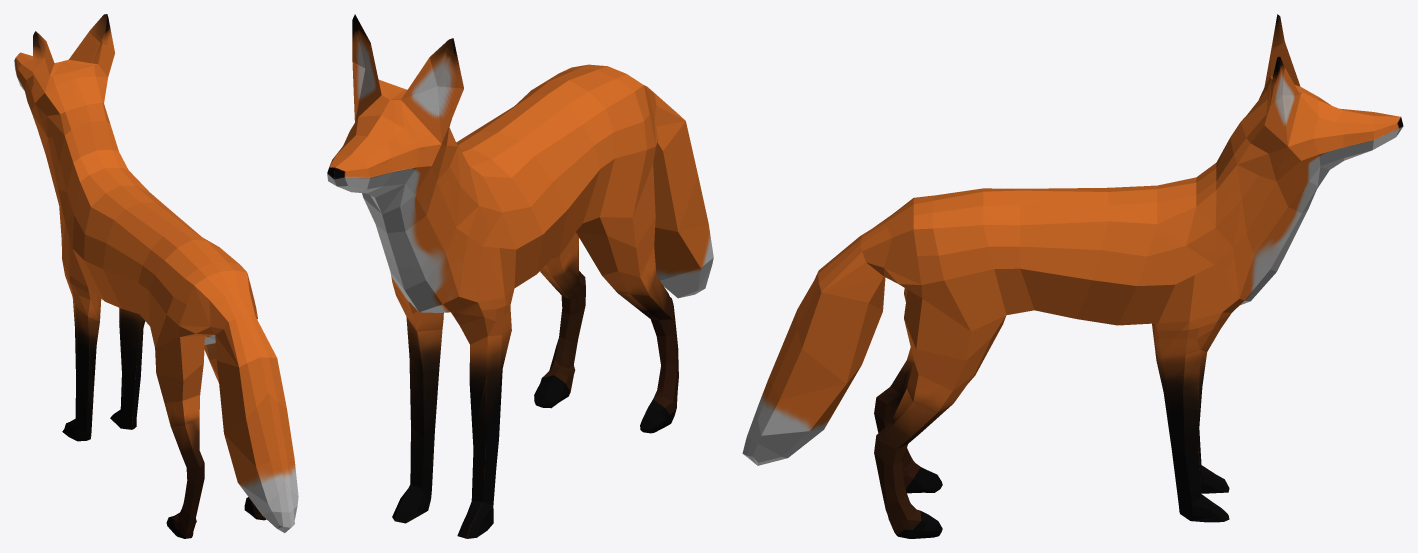
Rendered from fox.glb.
3 renders of one model, left to right at view 1: azimuth 30°, elevation 25°; view 2: azimuth 150°, elevation 25°; view 3: azimuth 270°, elevation 25°, orthographic. The views are drawn at different scales.
Parts seen in each view (by area): view 1: Plane; view 2: Plane; view 3: Plane.
Part boxes in pixels (x1,y1,x2,y2): Plane: (14,14,298,538); Plane: (327,14,713,538); Plane: (742,14,1403,538).
Bounding box in the file's own units: 1.69 × 6.78 × 8.52.
Materials: 1 (1 with a texture image).
